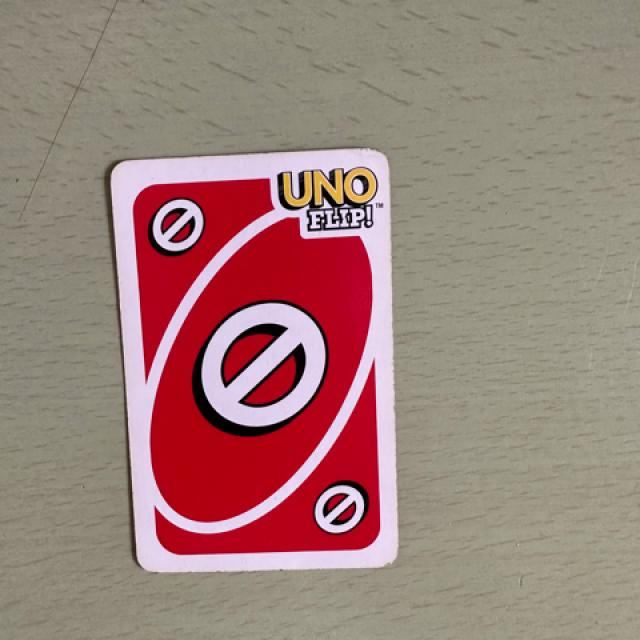lredskip-20: (127, 178, 224, 274)
